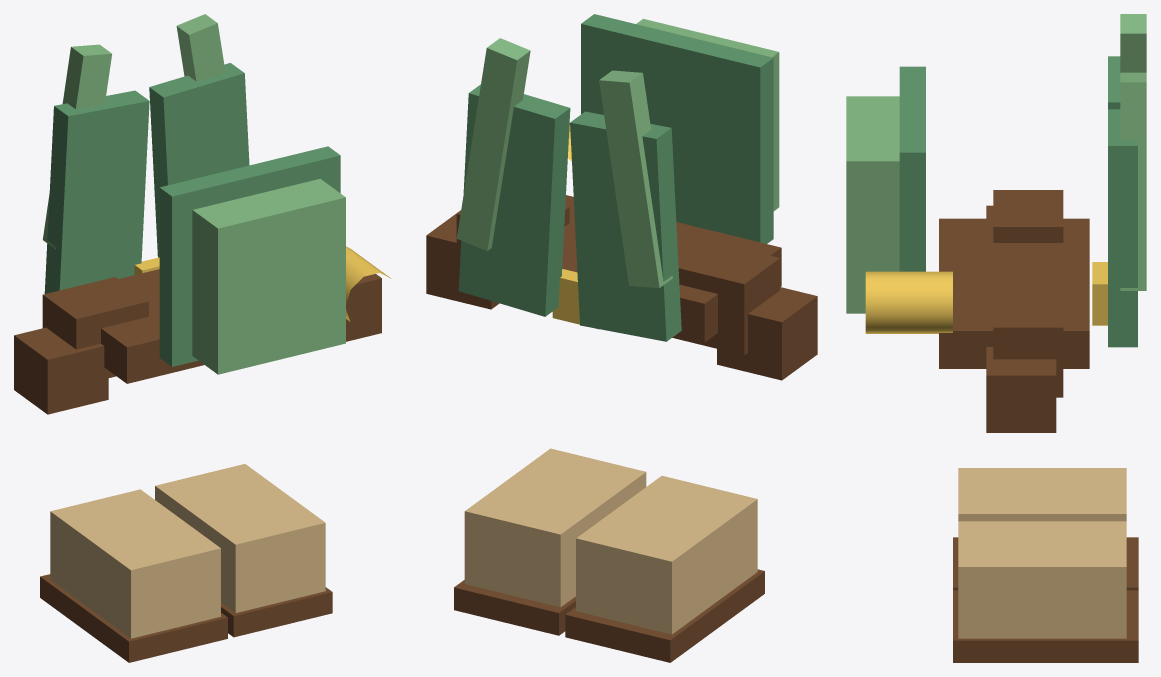
The model's file is upgrade_outfit.glb.
3 views of the same model, side by side, from view 1: azimuth 30°, elevation 25°; view 2: azimuth 150°, elevation 25°; view 3: azimuth 270°, elevation 25° (orthographic). The views are drawn at different scales.
Visible parts, largest first — view 1: UpgradeOutfit; view 2: UpgradeOutfit; view 3: UpgradeOutfit.
Boxes of the visible parts, x1=… form: UpgradeOutfit: x1=14, y1=14, x2=391, y2=662; UpgradeOutfit: x1=426, y1=14, x2=817, y2=662; UpgradeOutfit: x1=846, y1=14, x2=1146, y2=662.
Size of the model in its own units: 1.15 by 1.77 by 0.8575.
